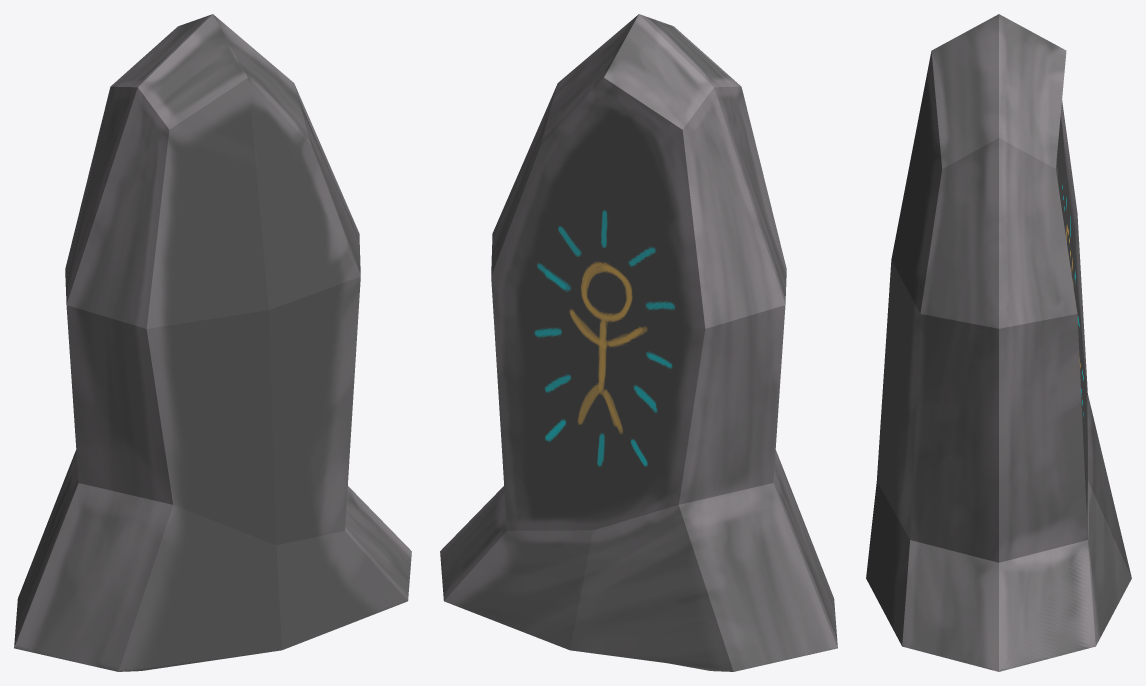
Rendered from rune_grau_child_2.glb.
3 renders of one model, left to right at view 1: azimuth 30°, elevation 25°; view 2: azimuth 150°, elevation 25°; view 3: azimuth 270°, elevation 25°, orthographic. The views are drawn at different scales.
Visible parts, largest first — view 1: Child; view 2: Child; view 3: Child.
Boxes of the visible parts, left/top/right/bottom form: Child: left=14, top=14, right=411, bottom=671; Child: left=440, top=14, right=837, bottom=671; Child: left=866, top=14, right=1131, bottom=671.
Size of the model in its own units: 4.45 by 6.45 by 2.68.
Materials: 1 (1 with a texture image).
